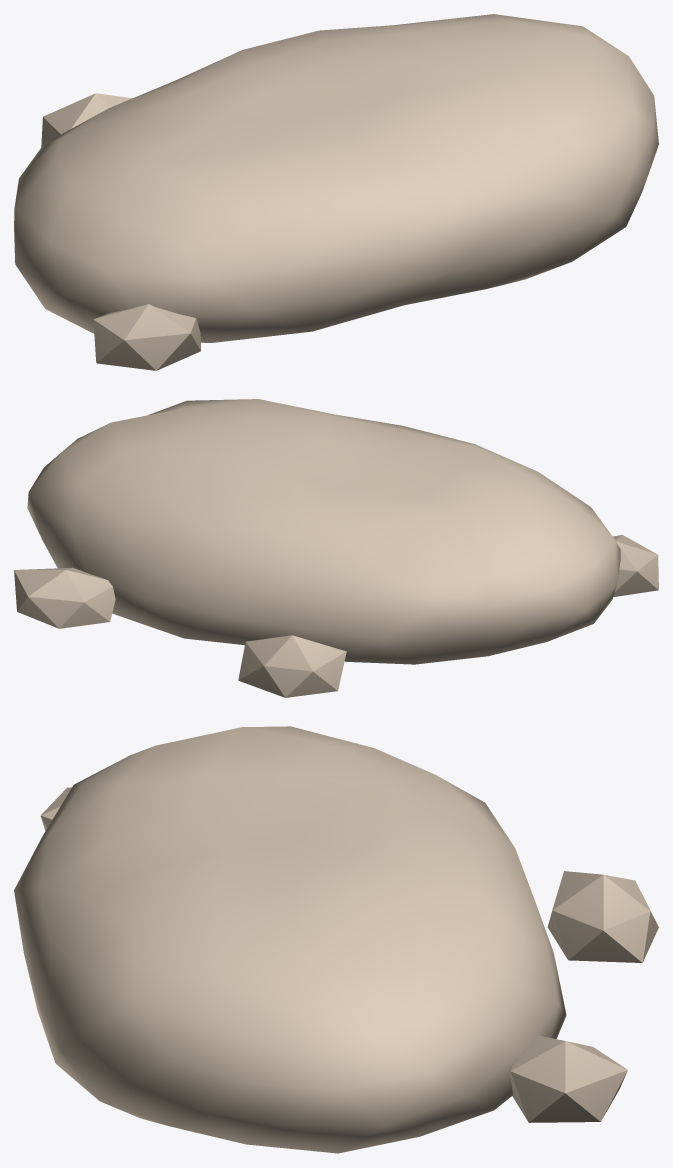
The model's file is SM_ENV_Rock_Warm_Flat.fbx.
The picture shows the model from 3 angles, top to bottom: view 1: azimuth 30°, elevation 25°; view 2: azimuth 150°, elevation 25°; view 3: azimuth 270°, elevation 25°; orthographic projection. The views are drawn at different scales.
Parts seen in each view (by area): view 1: SM_ENV_Rock_Warm_Flat; view 2: SM_ENV_Rock_Warm_Flat; view 3: SM_ENV_Rock_Warm_Flat.
Boxes of the visible parts, x1,y1,x2,y2 form: SM_ENV_Rock_Warm_Flat: (14, 14, 658, 370); SM_ENV_Rock_Warm_Flat: (14, 399, 658, 697); SM_ENV_Rock_Warm_Flat: (14, 726, 658, 1153).
Bounding box in the file's own units: 2.18 × 0.4594 × 1.67.
